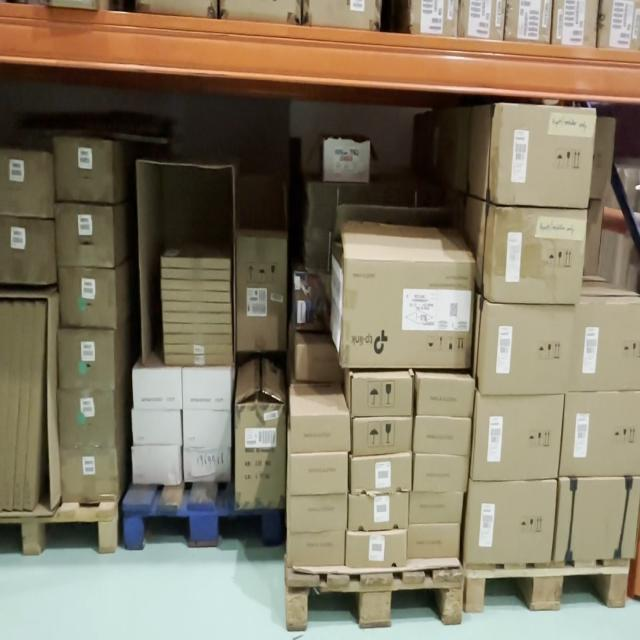box: (343, 260, 475, 368), (498, 106, 595, 206), (492, 210, 587, 305), (473, 395, 564, 482), (485, 307, 572, 396), (467, 481, 555, 563), (238, 238, 288, 352), (235, 407, 286, 510), (55, 206, 115, 268), (54, 138, 112, 202), (58, 388, 115, 448), (58, 268, 115, 327), (58, 330, 114, 388), (60, 447, 118, 503), (290, 453, 347, 497), (352, 377, 412, 416), (290, 414, 351, 452), (351, 455, 411, 493), (353, 420, 412, 458), (349, 493, 409, 529), (132, 367, 183, 409), (346, 532, 407, 567), (413, 420, 472, 456), (288, 497, 347, 531), (417, 382, 474, 417), (183, 368, 230, 409), (414, 457, 468, 492), (131, 447, 179, 485), (132, 409, 182, 444), (287, 533, 344, 563), (184, 411, 231, 446), (183, 448, 230, 482), (408, 526, 459, 557), (409, 494, 463, 523), (164, 344, 232, 355), (162, 303, 231, 313), (162, 314, 231, 324), (161, 280, 229, 290), (161, 258, 231, 267), (162, 269, 230, 278), (162, 292, 230, 300), (164, 335, 232, 343), (165, 357, 232, 364), (164, 326, 232, 332)
